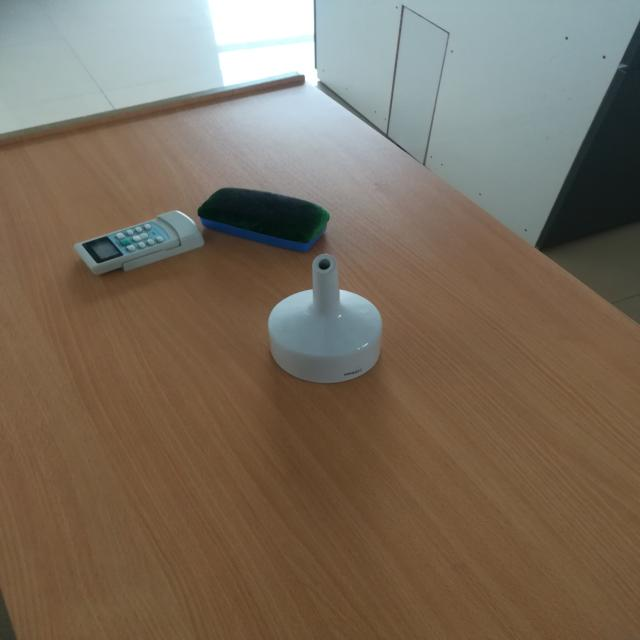Buchner_Funnel: (233, 208, 409, 420)
